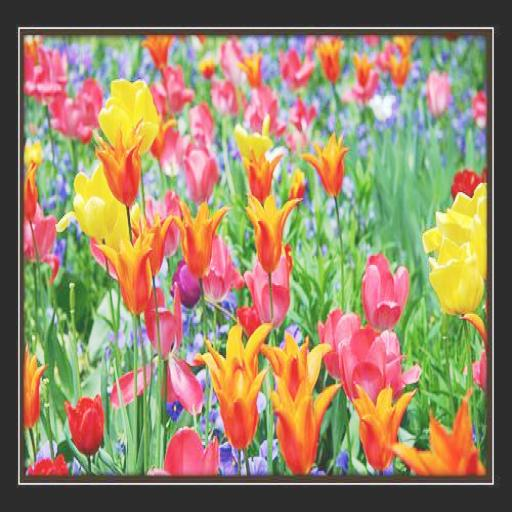tulip: (204, 317, 273, 446), (268, 375, 343, 471), (352, 379, 418, 468), (90, 117, 149, 201), (97, 230, 156, 312), (246, 189, 300, 271), (428, 236, 484, 314), (174, 197, 233, 271), (100, 78, 158, 149), (72, 163, 123, 233), (364, 252, 408, 329), (302, 128, 348, 197), (64, 393, 106, 454)
